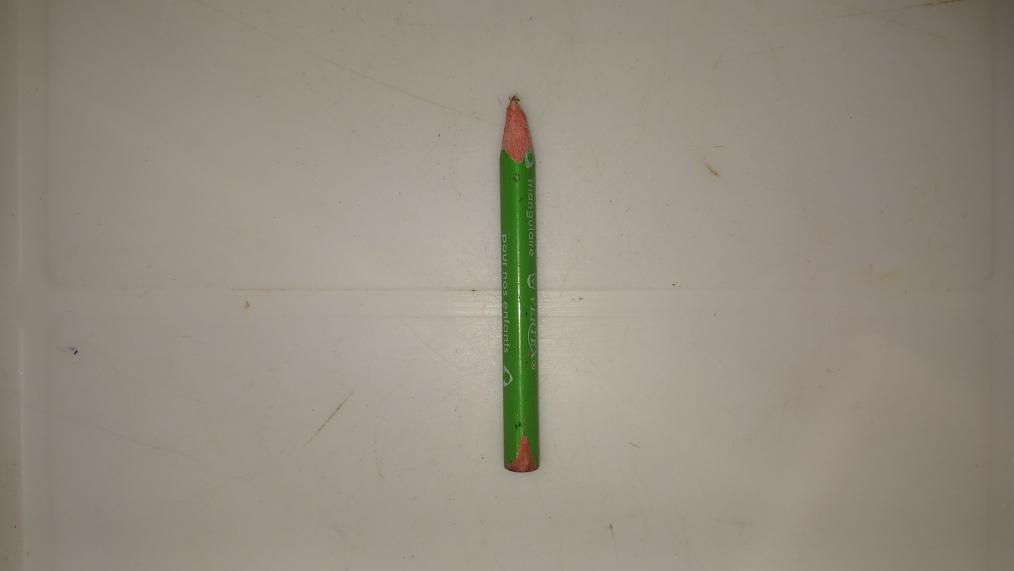Pencil: (503, 92, 537, 470)
